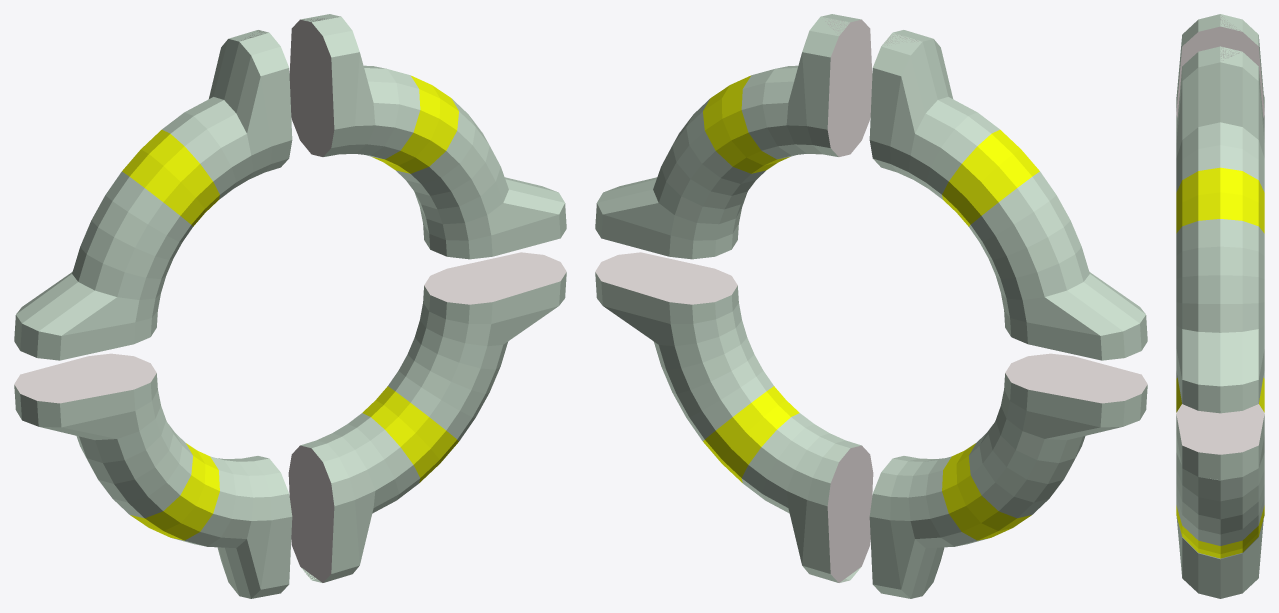
File: Goal.fbx
3 views of the same model, side by side, from view 1: azimuth 30°, elevation 25°; view 2: azimuth 150°, elevation 25°; view 3: azimuth 270°, elevation 25° (orthographic). The views are drawn at different scales.
Parts seen in each view (by area): view 1: トーラス; view 2: トーラス; view 3: トーラス.
Boxes of the visible parts, x1,y1,x2,y2 form: トーラス: (14, 14, 566, 598); トーラス: (595, 14, 1147, 598); トーラス: (1176, 14, 1264, 598).
Size of the model in its own units: 282 by 278 by 41.24.
